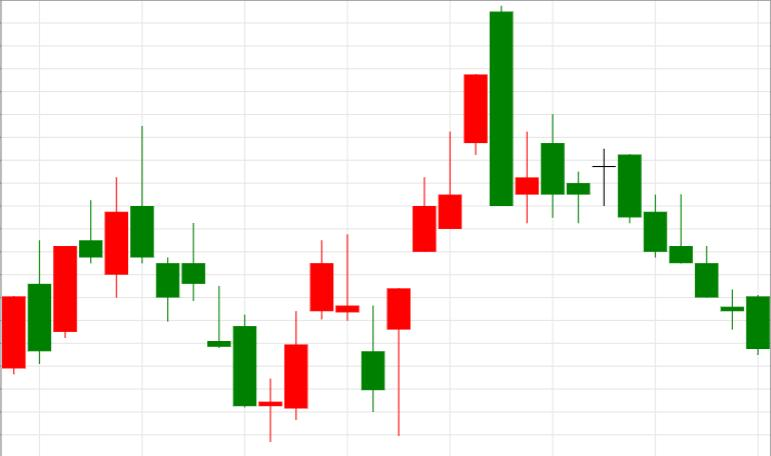bearish_engulfing_fall: (386, 5, 514, 435)
